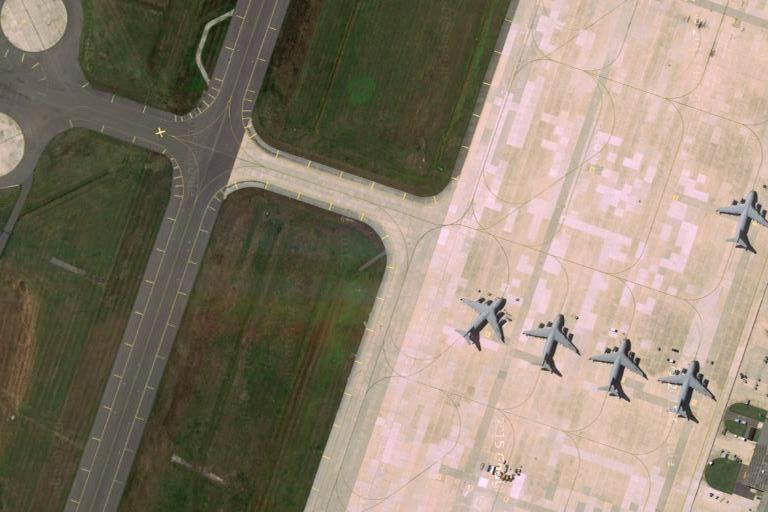C-17: (590, 336, 649, 404), (524, 311, 583, 379), (659, 359, 719, 425), (455, 293, 515, 354), (713, 185, 765, 253)
